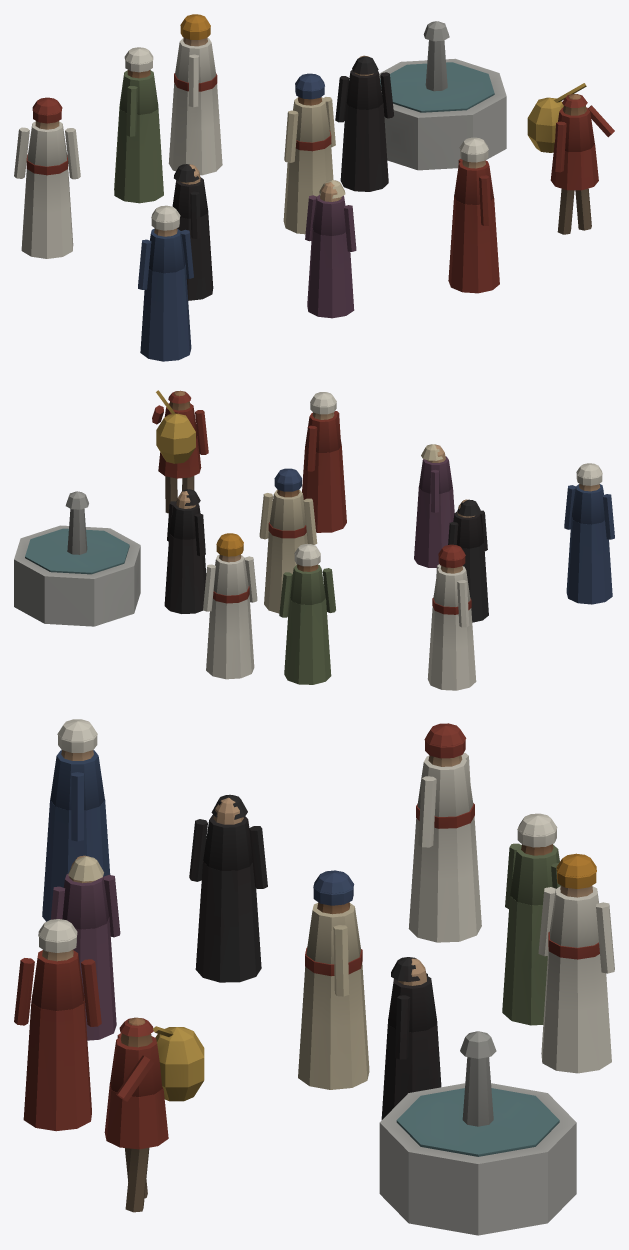
The model's file is crowd.glb.
3 renders of one model, top to bottom at view 1: azimuth 30°, elevation 25°; view 2: azimuth 150°, elevation 25°; view 3: azimuth 270°, elevation 25°, orthographic. The views are drawn at different scales.
Parts seen in each view (by area): view 1: base; view 2: base; view 3: base.
Boxes of the visible parts, <box> form: base: <box>14,14,614,361</box>; base: <box>14,390,614,690</box>; base: <box>14,719,614,1235</box>.
Bounding box in the file's own units: 6.08 × 1.7 × 4.58.
